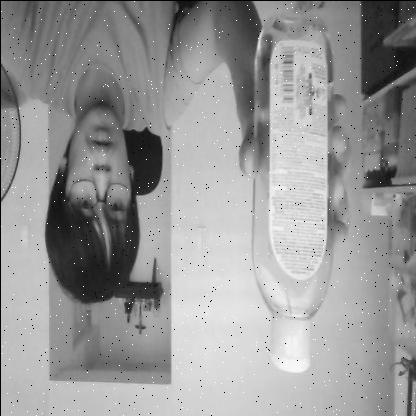Plastic Bottle: (249, 7, 340, 380)
